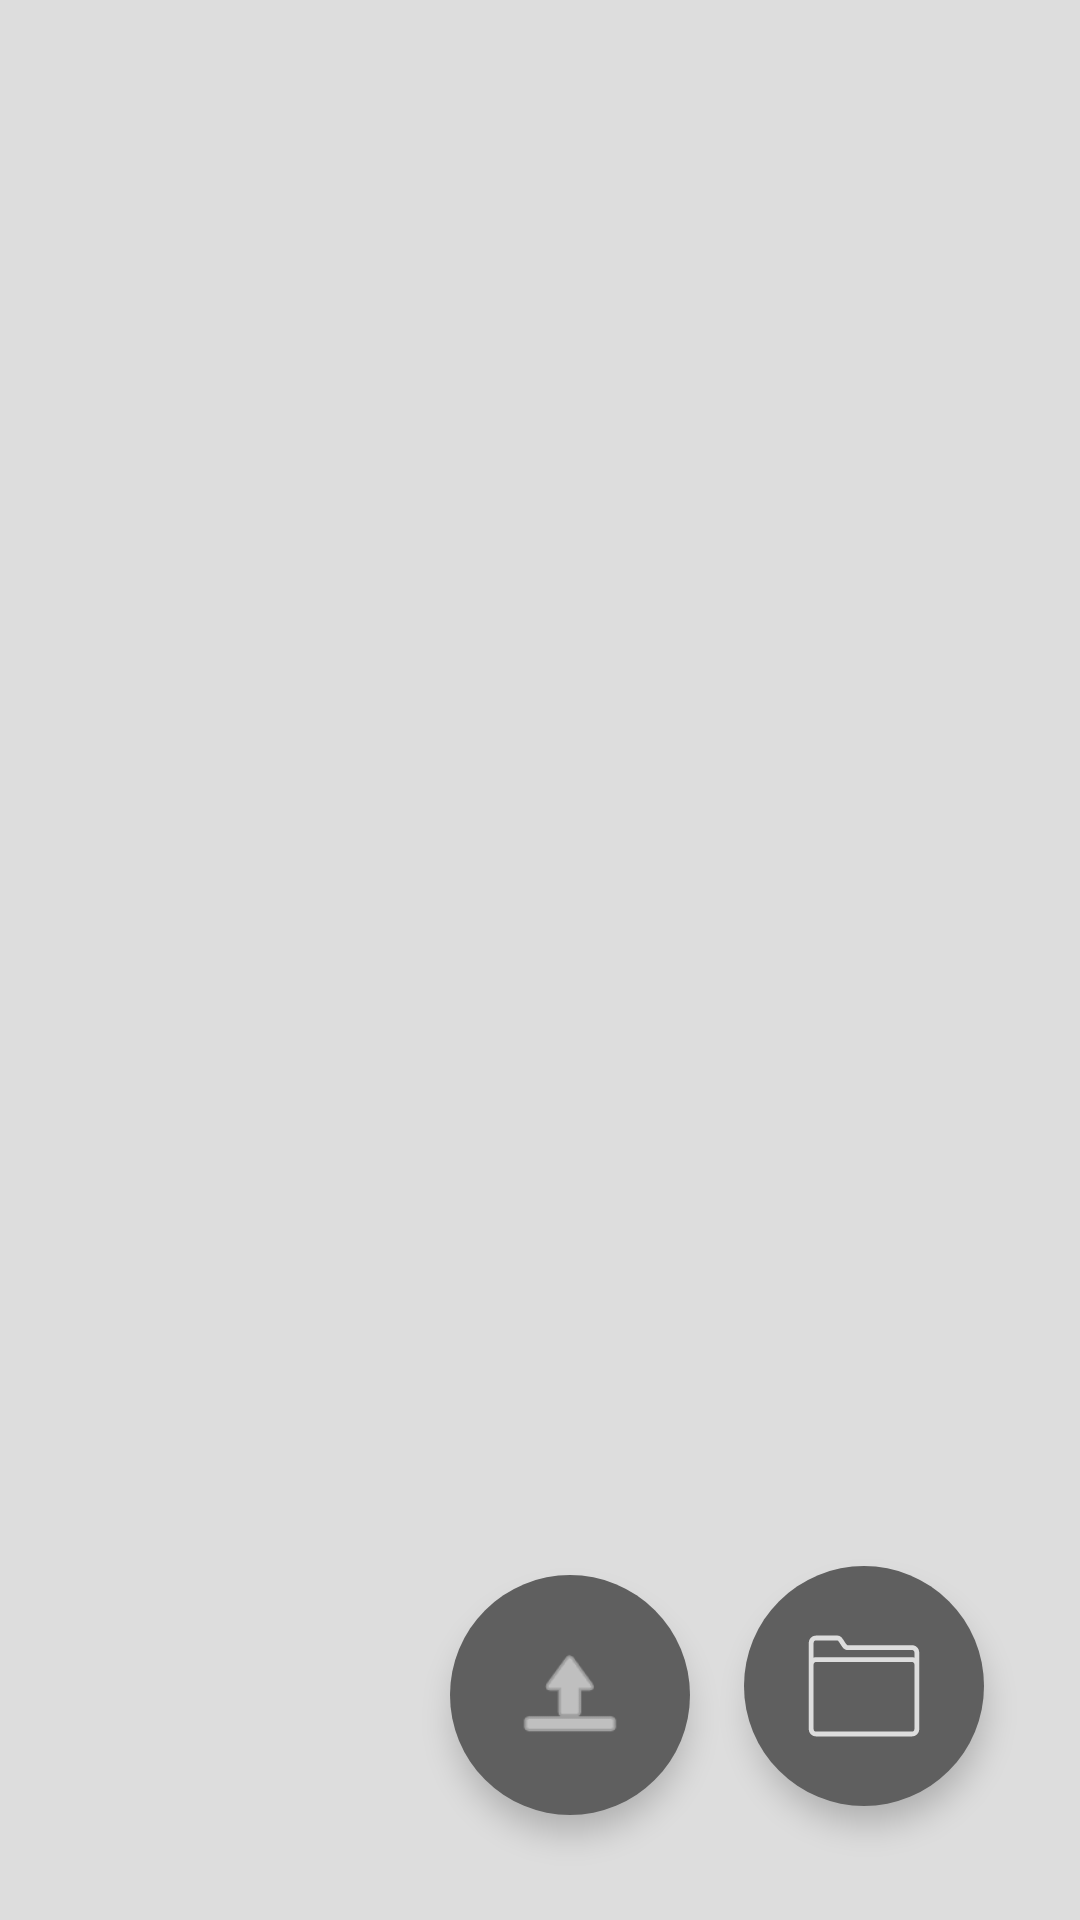

Icons on this 1080px x 1920px Android screen, each with the point to tap as (x=x, y=y):
mkdir: (x=864, y=1693)
Загрузить: (x=570, y=1695)
